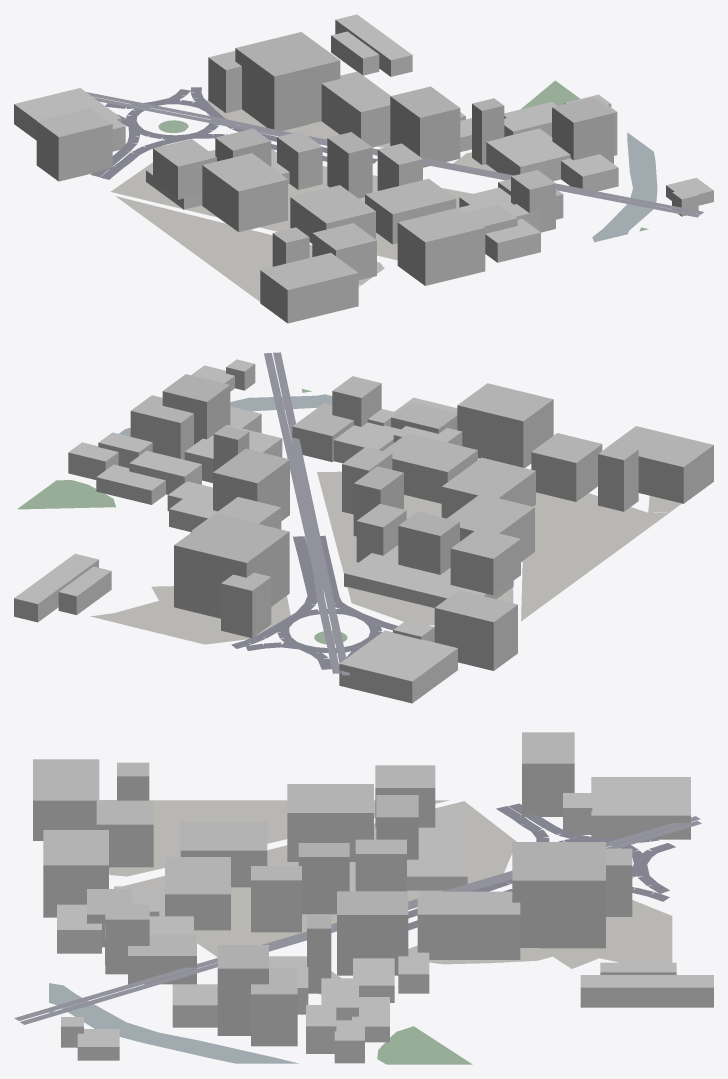
Rendered from 125_105_mid.glb.
The picture shows the model from 3 angles, top to bottom: view 1: azimuth 30°, elevation 25°; view 2: azimuth 150°, elevation 25°; view 3: azimuth 270°, elevation 25°; orthographic projection. The views are drawn at different scales.
Size of the model in its own units: 530 by 60.72 by 562.
